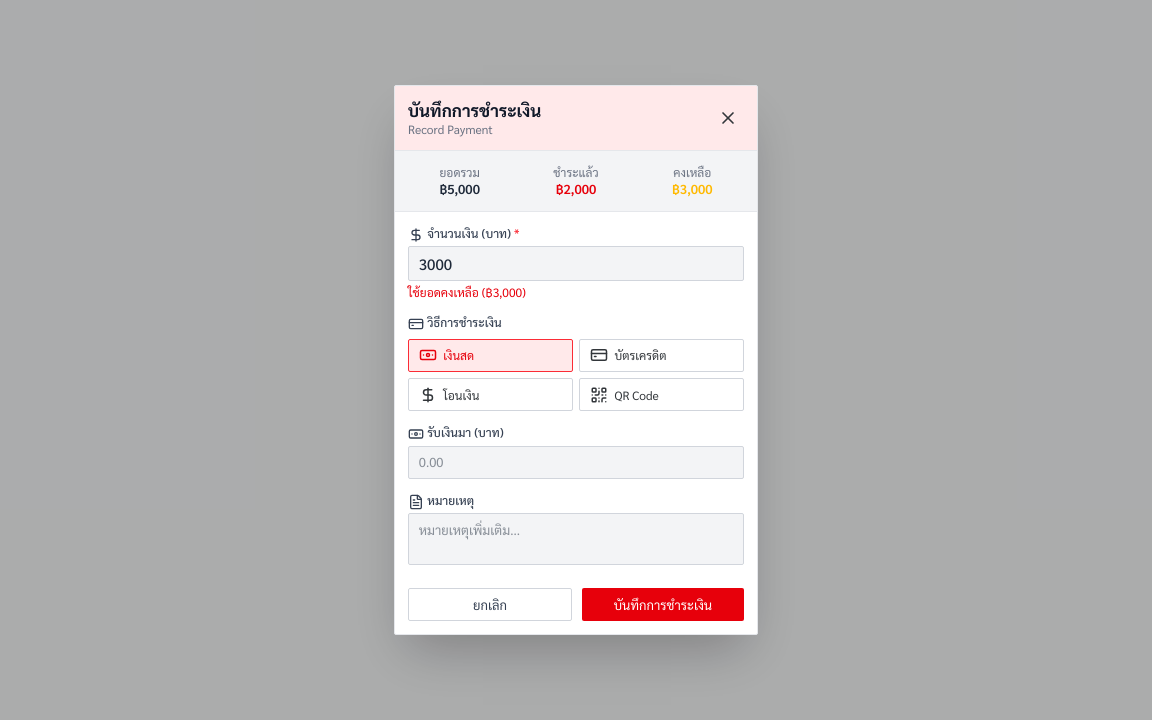
Test: PaymentModal Component › Payment Method Selection › clicking transfer shows reference field
The width and height of the screenshot is (1152, 720).
Click the button "โอนเงิน". click: {"x": 490, "y": 395}
box: [408,378,573,412]
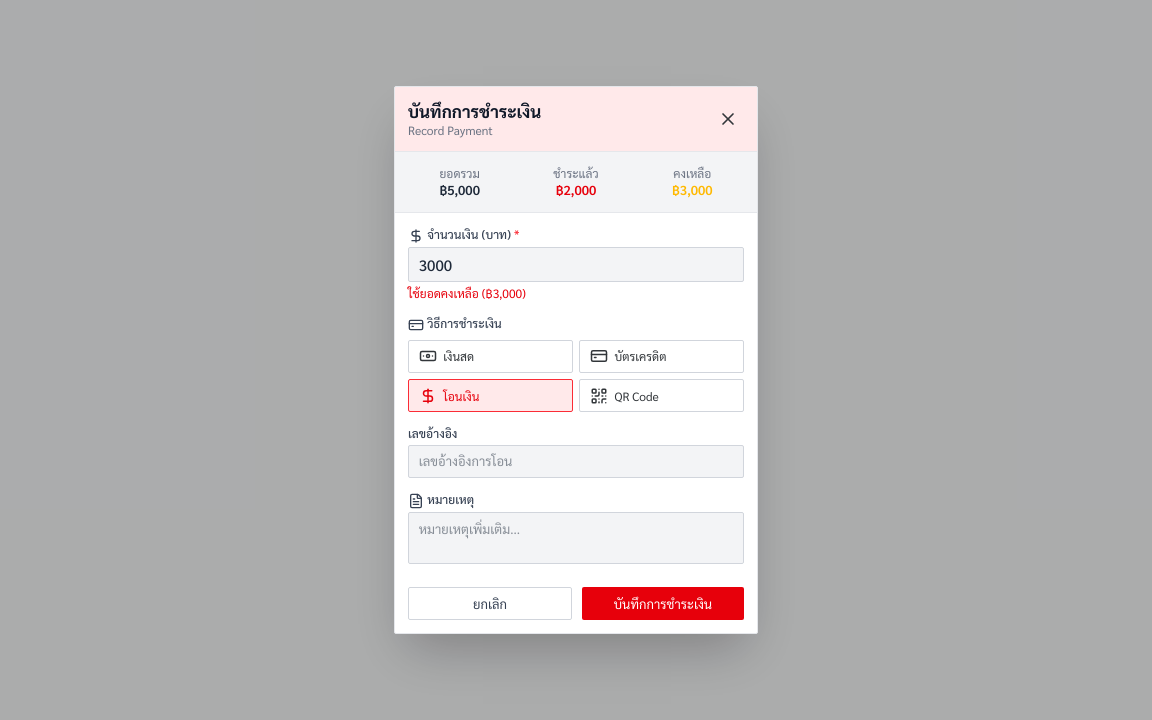
Expected: the field with placeholder "เลขอ้างอิงการโอน" is shown, [408,445,744,478]
